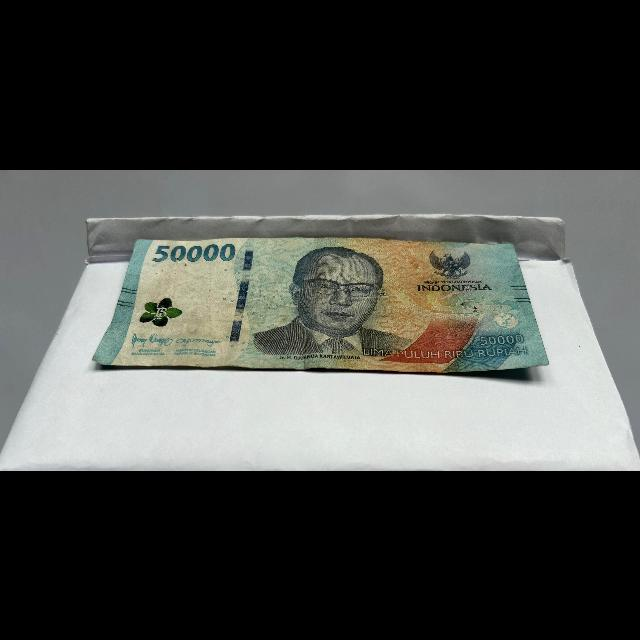Palsu-50k: (86, 234, 555, 376)
Tinta-Palsu-50k: (136, 294, 187, 330)
